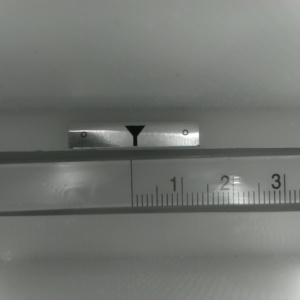1: (169, 177, 176, 192)
2: (219, 176, 229, 190)
3: (270, 173, 280, 189)
finger: (124, 126, 145, 146)
